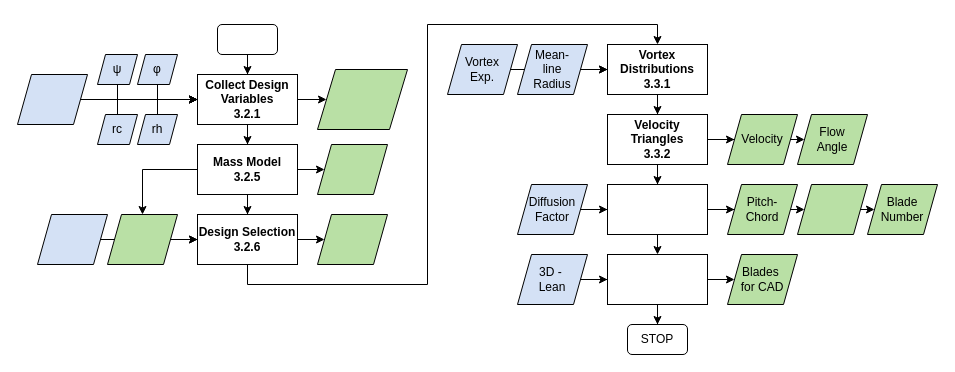
Some shapes in this 955 by 372 pixel diagram are drawn without their labels. The box of each missing label's shape, as (x1, y1, x2, y2) in pixels:
Blade aspect ratios: (16, 74, 88, 124)
Chassis Mass: (36, 214, 108, 264)
Deviation & Blade Number 3.3.4/5: (606, 184, 708, 234)
Diffuser Length: (316, 144, 388, 194)
EDF Mass: (106, 214, 178, 264)
Exit Duct Area Ratio: (316, 68, 408, 130)
Fan Speed: (316, 214, 388, 264)
Generate Profiles: (606, 254, 708, 304)
Metal Angle: (796, 184, 868, 234)
START: (216, 24, 278, 54)
